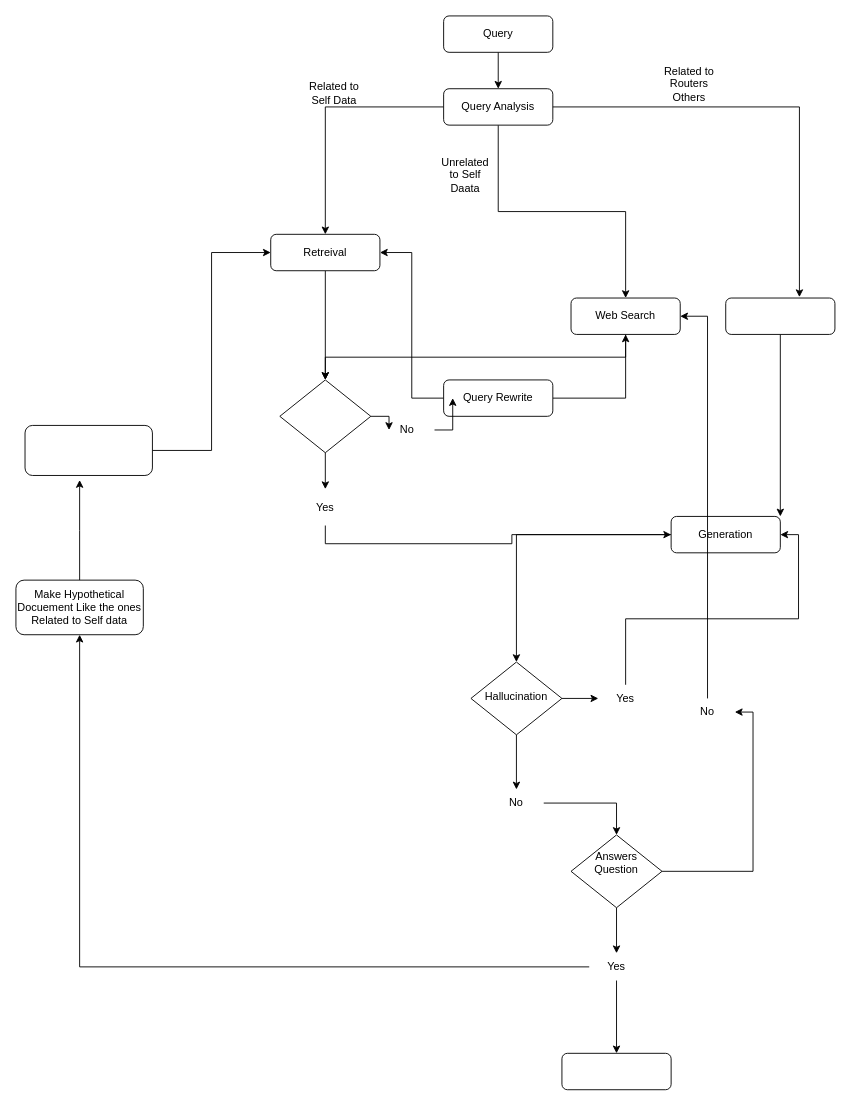
This 851x1106 diagram has some shape labels left out. Here are the shapes that lost their labels. From the top down, the box of each, then its label:
(725, 297, 835, 334): Ask LLM
(279, 379, 371, 453): Relevant Question
(24, 425, 152, 475): Save HyD
(561, 1052, 671, 1090): Answer
